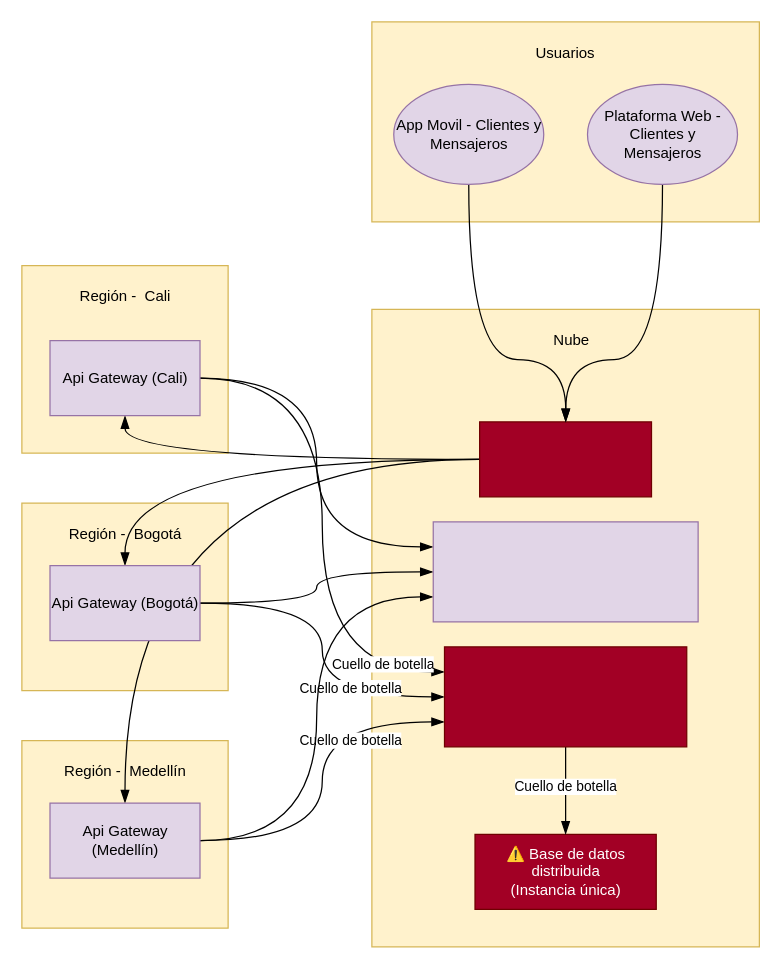
Some shapes in this 781 by 969 pixel diagram are drawn without their labels. Each missing label, with the box of its shape:
Servicio de Monitoreo y Alertas (Servicio manejado = Autoescalamiento): (432, 521, 698, 622)
⚠️ Balanceadores de carga (Instancia única): (478, 421, 652, 497)
⚠️ Módulos de procesamiento de rutas y estados de paquetes (Instancia única): (443, 646, 687, 747)
